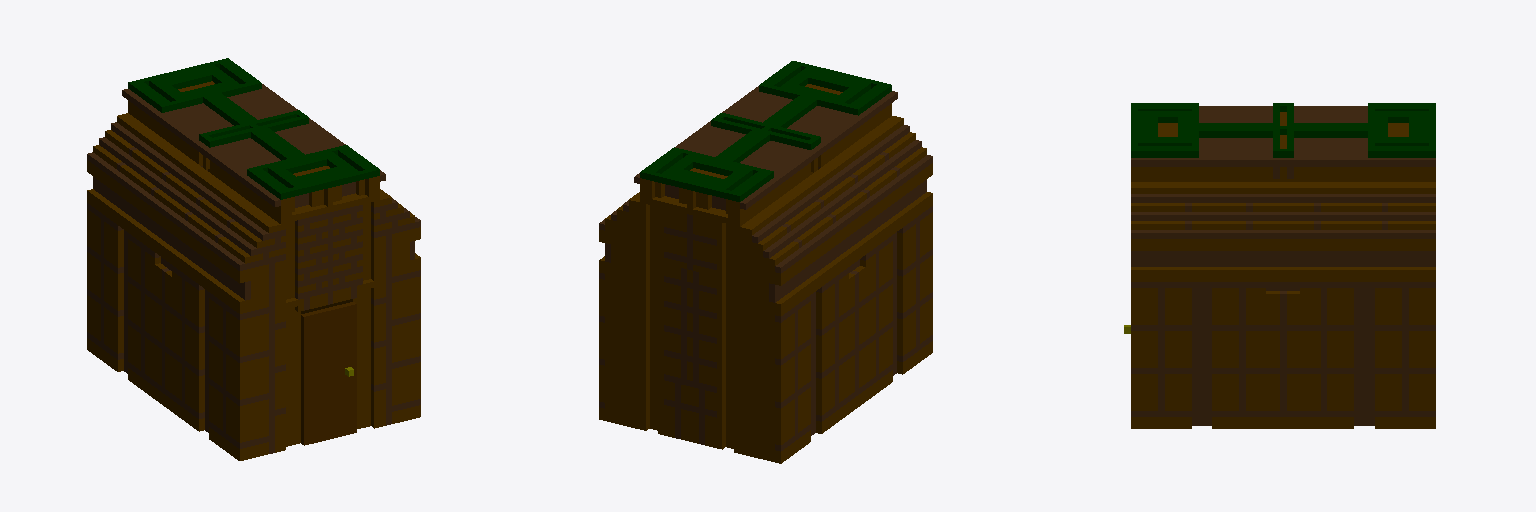
The picture shows the model from 3 angles: view 1: azimuth 30°, elevation 25°; view 2: azimuth 150°, elevation 25°; view 3: azimuth 270°, elevation 25°; orthographic projection.
Bounding box in the file's own units: 31 × 42 × 46.
Materials: 1 (1 with a texture image).